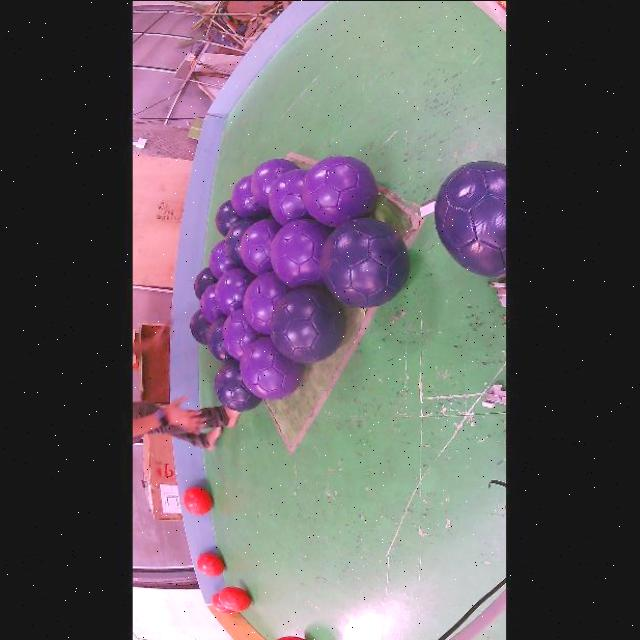B: (434, 160, 505, 277), (319, 218, 408, 308), (269, 287, 344, 363), (213, 359, 259, 411), (223, 217, 256, 265), (205, 318, 231, 361), (213, 199, 241, 235), (189, 265, 215, 299), (190, 308, 211, 343)
P: (300, 155, 377, 226), (269, 218, 328, 287), (237, 337, 302, 399), (241, 270, 289, 334), (249, 157, 297, 208), (267, 168, 309, 225), (239, 218, 279, 274), (213, 266, 254, 315), (221, 307, 259, 359), (230, 173, 269, 217), (206, 239, 235, 278), (198, 283, 224, 324)
R: (182, 487, 210, 515), (218, 587, 249, 612), (195, 554, 223, 577), (210, 594, 234, 613), (276, 637, 306, 640)
